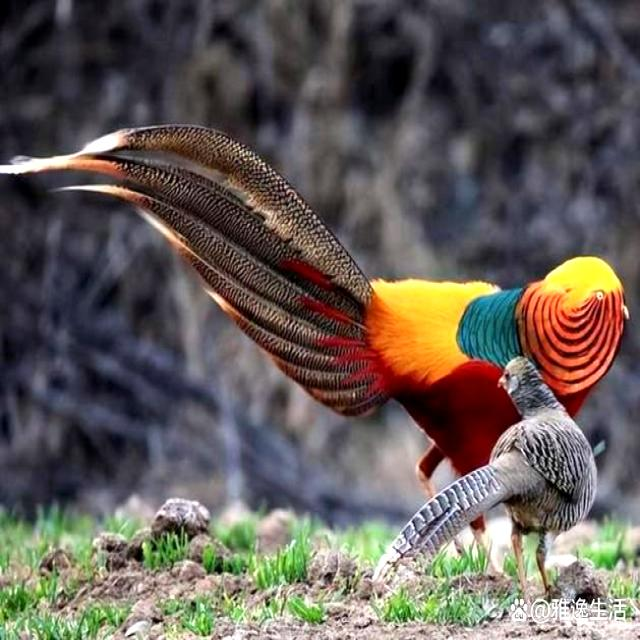Chrysolophus pictus feather: (0, 124, 398, 421)
